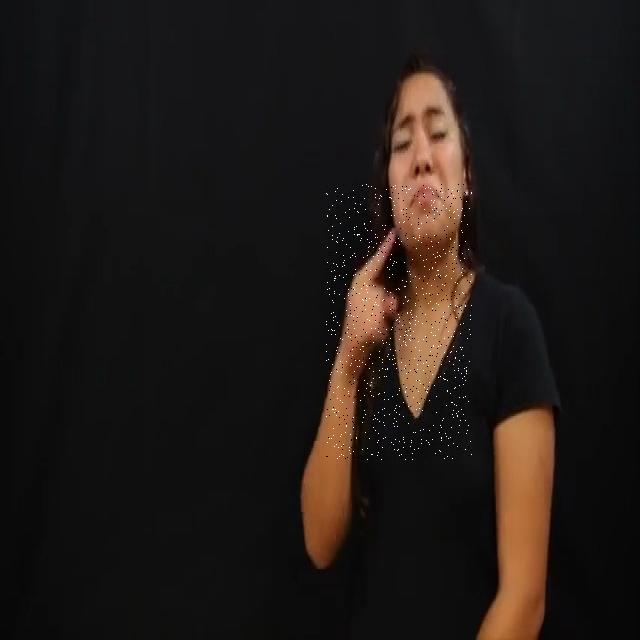bitter: (326, 184, 472, 460)
